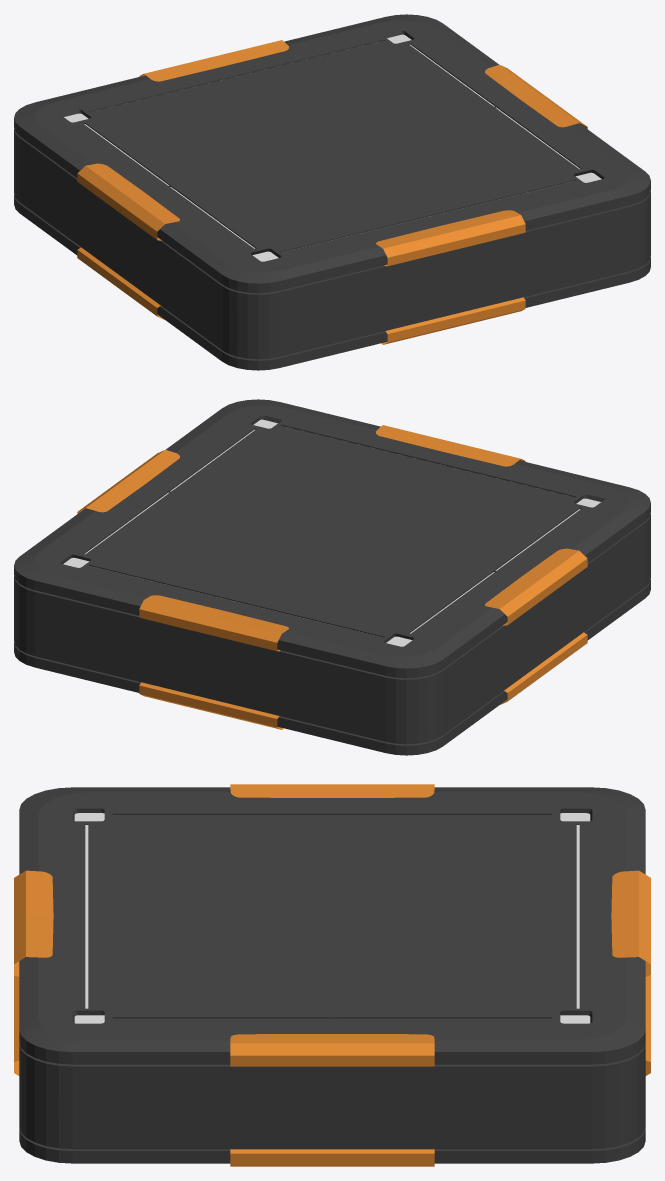
File: 3D_Tile.fbx
3 views of the same model, one above another, from view 1: azimuth 30°, elevation 25°; view 2: azimuth 150°, elevation 25°; view 3: azimuth 270°, elevation 25° (orthographic). The views are drawn at different scales.
Parts seen in each view (by area): view 1: Cube.002; view 2: Cube.002; view 3: Cube.002.
Part boxes in pixels (bbox=[...]): Cube.002: bbox=[14, 14, 650, 370]; Cube.002: bbox=[14, 399, 650, 755]; Cube.002: bbox=[14, 784, 650, 1166].
Bounding box in the file's own units: 203 × 43.46 × 203.
